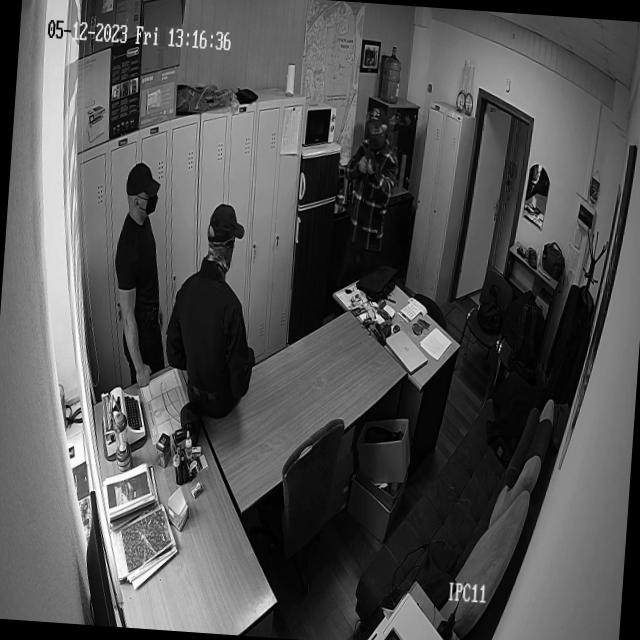gun: (357, 144, 385, 184), (515, 242, 526, 264)
person: (160, 200, 266, 418), (106, 175, 180, 382)
person with a gun: (332, 96, 403, 314)
